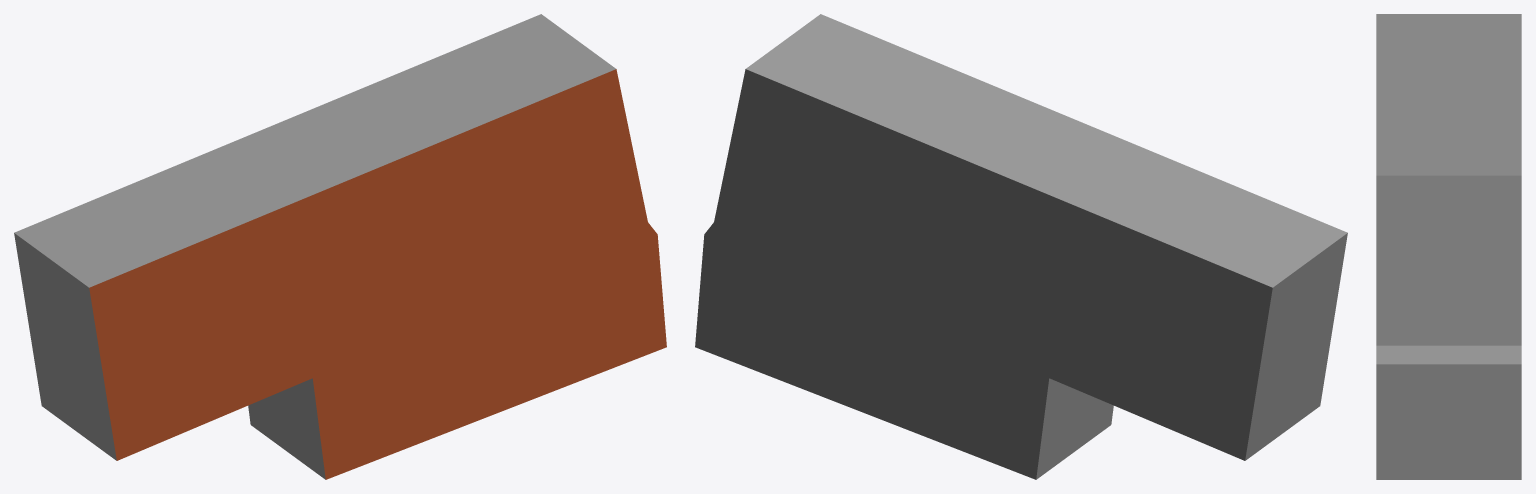
The model's file is construction_6837_assumed_A_Casa_h6m.obj.
The picture shows the model from 3 angles, left to right: view 1: azimuth 30°, elevation 25°; view 2: azimuth 150°, elevation 25°; view 3: azimuth 270°, elevation 25°; orthographic projection. The views are drawn at different scales.
Parts seen in each view (by area): view 1: construction_6837_assumed_A_Casa; view 2: construction_6837_assumed_A_Casa; view 3: construction_6837_assumed_A_Casa.
Boxes of the visible parts, <box> form: construction_6837_assumed_A_Casa: <box>14,14,666,479</box>; construction_6837_assumed_A_Casa: <box>695,14,1347,479</box>; construction_6837_assumed_A_Casa: <box>1376,14,1521,479</box>.
Bounding box in the file's own units: 26.62 × 14.97 × 6.
